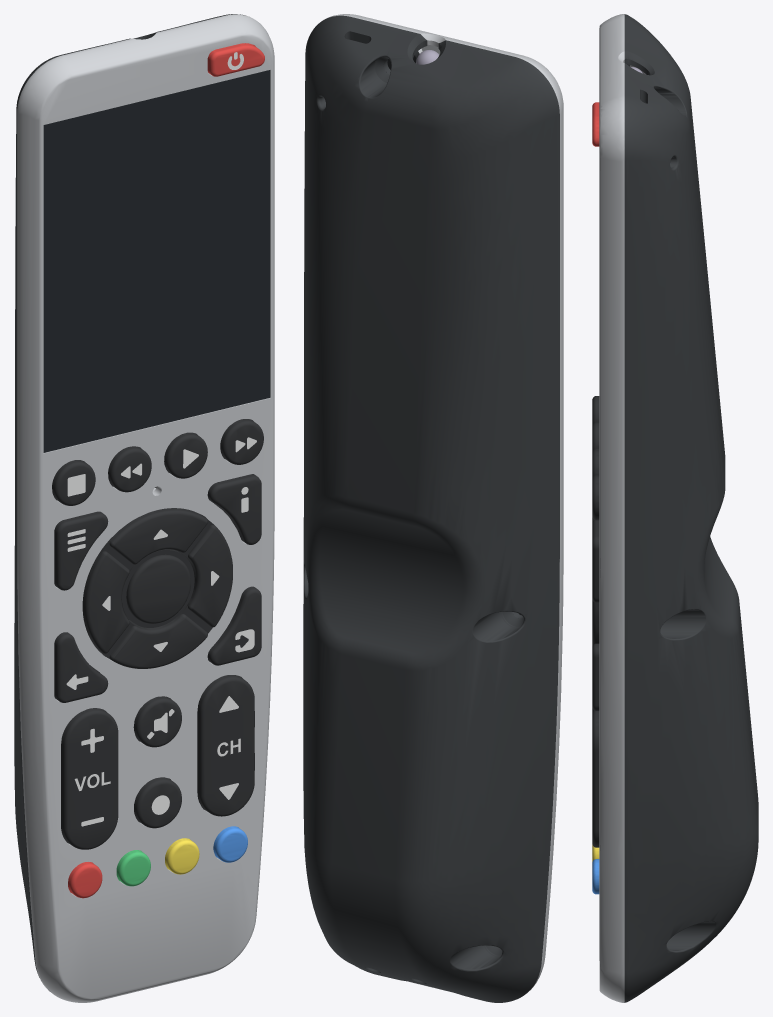
Rendered from remote.glb.
The picture shows the model from 3 angles, left to right: view 1: azimuth 30°, elevation 25°; view 2: azimuth 150°, elevation 25°; view 3: azimuth 270°, elevation 25°; orthographic projection. The views are drawn at different scales.
Visible parts, largest first — view 1: remote_abdeckung, remote_platine_glas, remote_tasten, remote_gehaeuse, remote_tasten_symbole, remote_taste_aus, remote_taste_gelb, remote_taste_blau, remote_taste_gruen, remote_taste_rot; view 2: remote_gehaeuse, remote_abdeckung; view 3: remote_gehaeuse, remote_abdeckung, remote_tasten.
Boxes of the visible parts, <box> form: remote_abdeckung: <box>17,14,274,1002</box>; remote_platine_glas: <box>43,70,270,452</box>; remote_tasten: <box>52,419,263,849</box>; remote_gehaeuse: <box>14,14,245,991</box>; remote_tasten_symbole: <box>66,437,256,826</box>; remote_taste_aus: <box>207,43,264,76</box>; remote_taste_gelb: <box>165,838,199,874</box>; remote_taste_blau: <box>213,826,247,862</box>; remote_taste_gruen: <box>116,850,150,886</box>; remote_taste_rot: <box>68,862,102,898</box>; remote_gehaeuse: <box>303,15,559,1002</box>; remote_abdeckung: <box>320,14,563,992</box>; remote_gehaeuse: <box>624,14,758,1002</box>; remote_abdeckung: <box>599,14,630,1002</box>; remote_tasten: <box>592,396,599,847</box>.
Bounding box in the file's own units: 0.0558 × 0.1998 × 0.0329.
